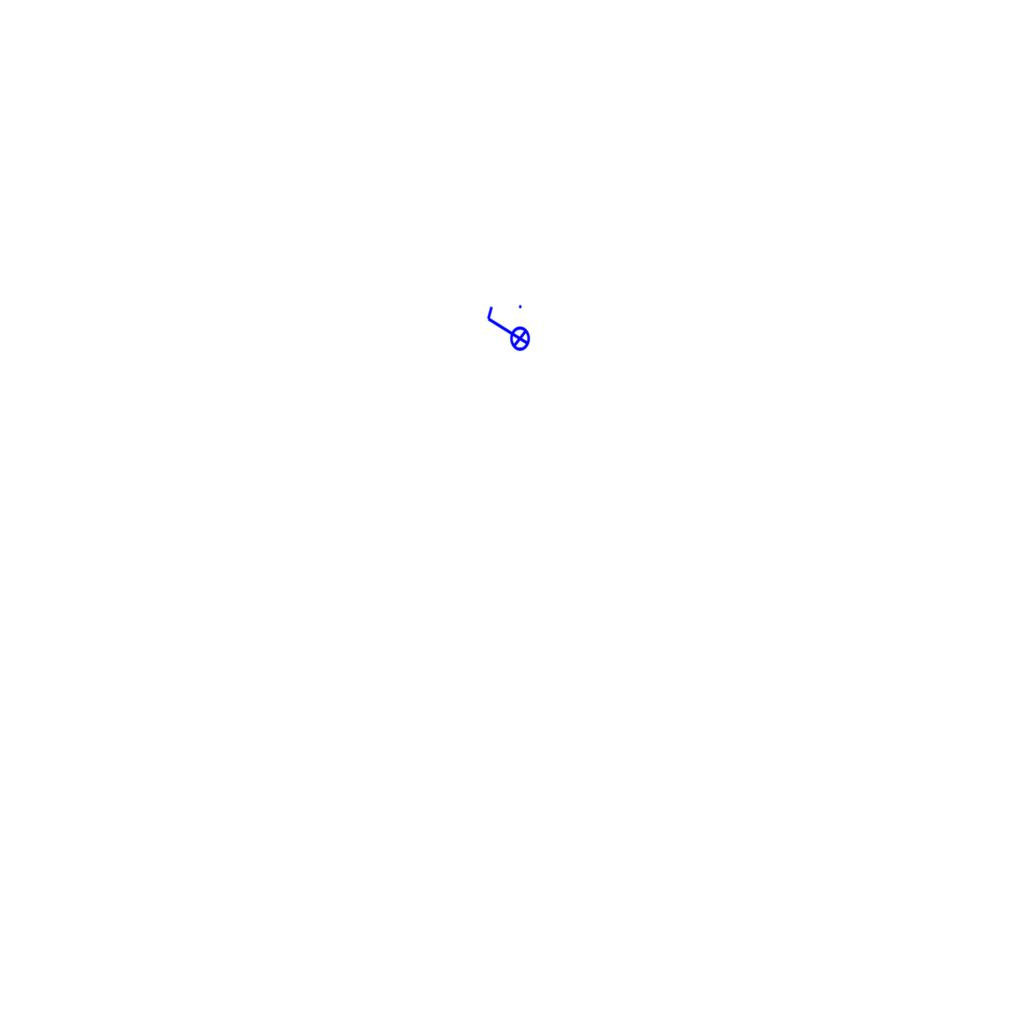Ausschalter_beleuchtet: (483, 302, 531, 358)
